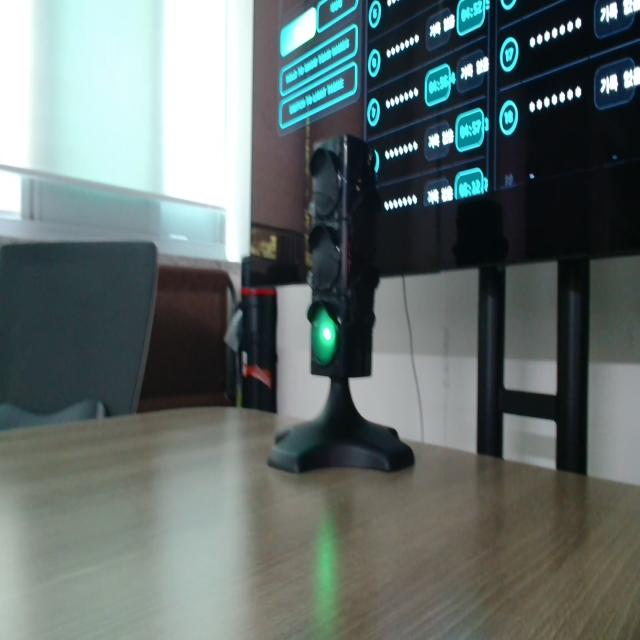green_light: (312, 308, 337, 365)
